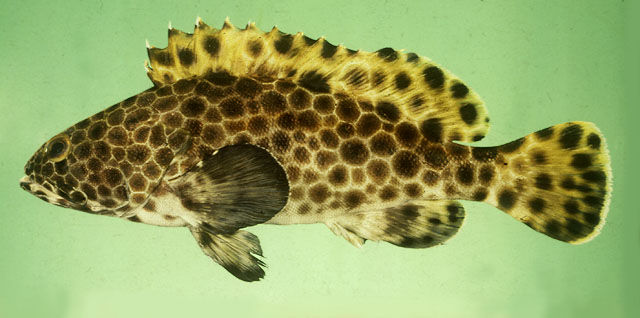fish: (19, 16, 613, 283)
